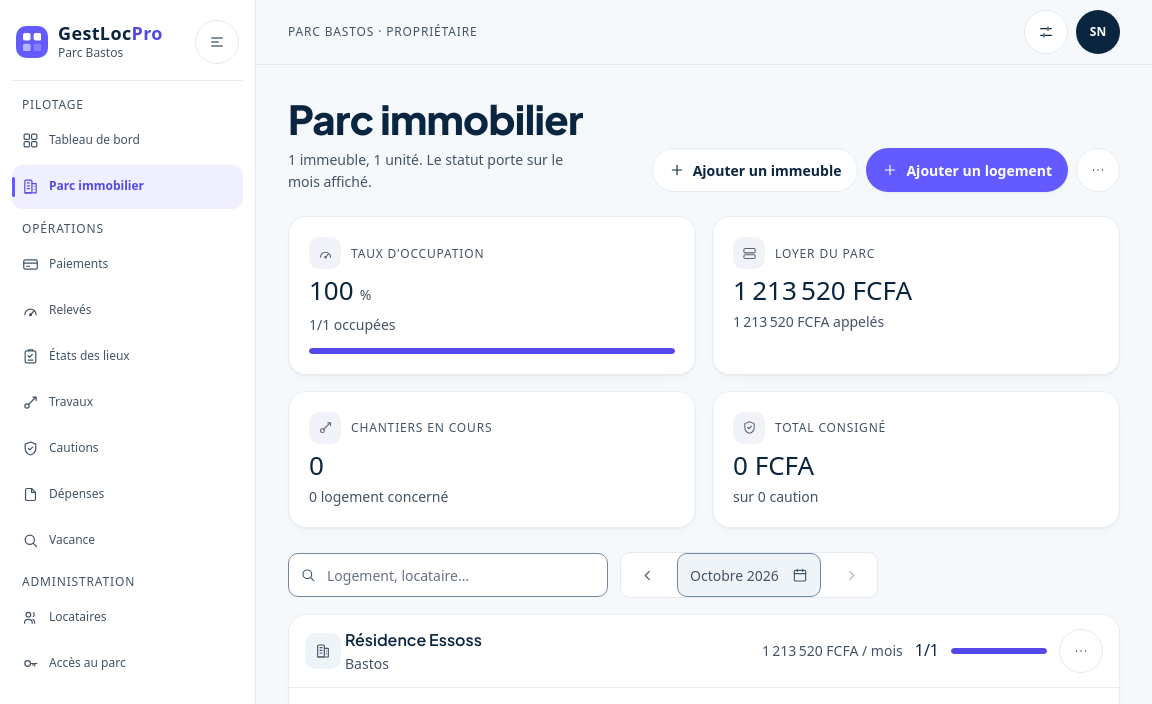
Test: corriger le parc › montre le pays et la devise que le parc porte vraiment
The width and height of the screenshot is (1152, 704).
Click the button named "Autres actions": (1098, 170) [1076,148,1120,192]
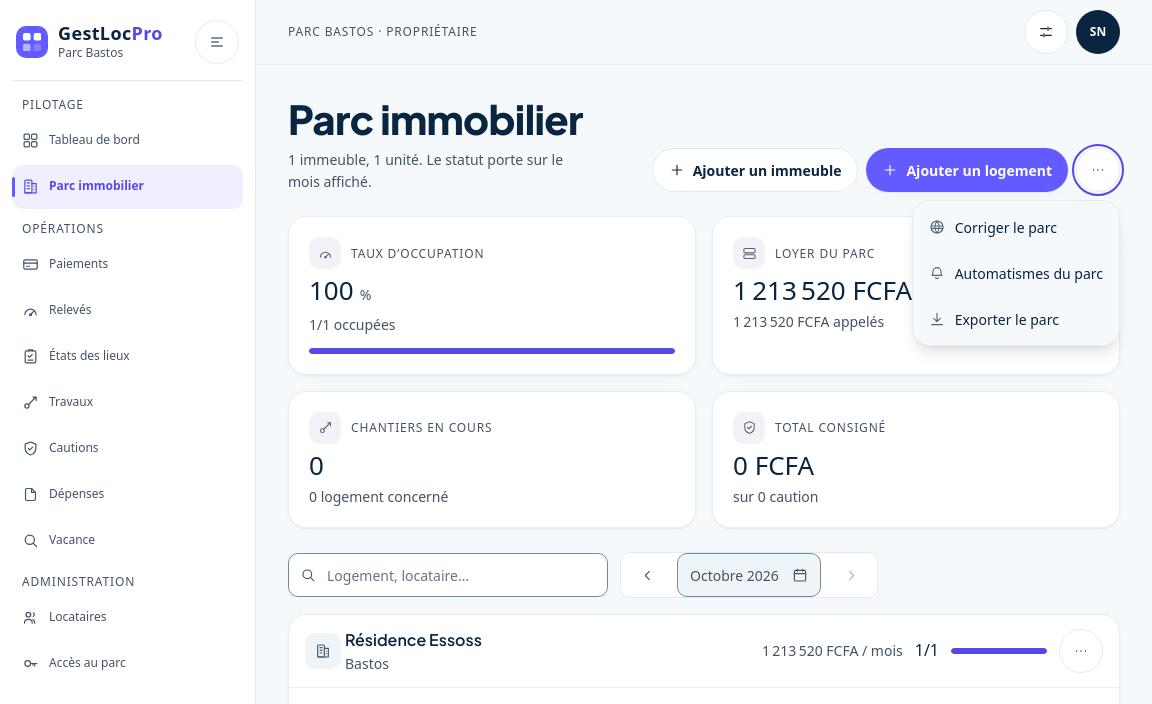
Click the menu item "Corriger le parc": (1016, 227) [917,205,1115,249]
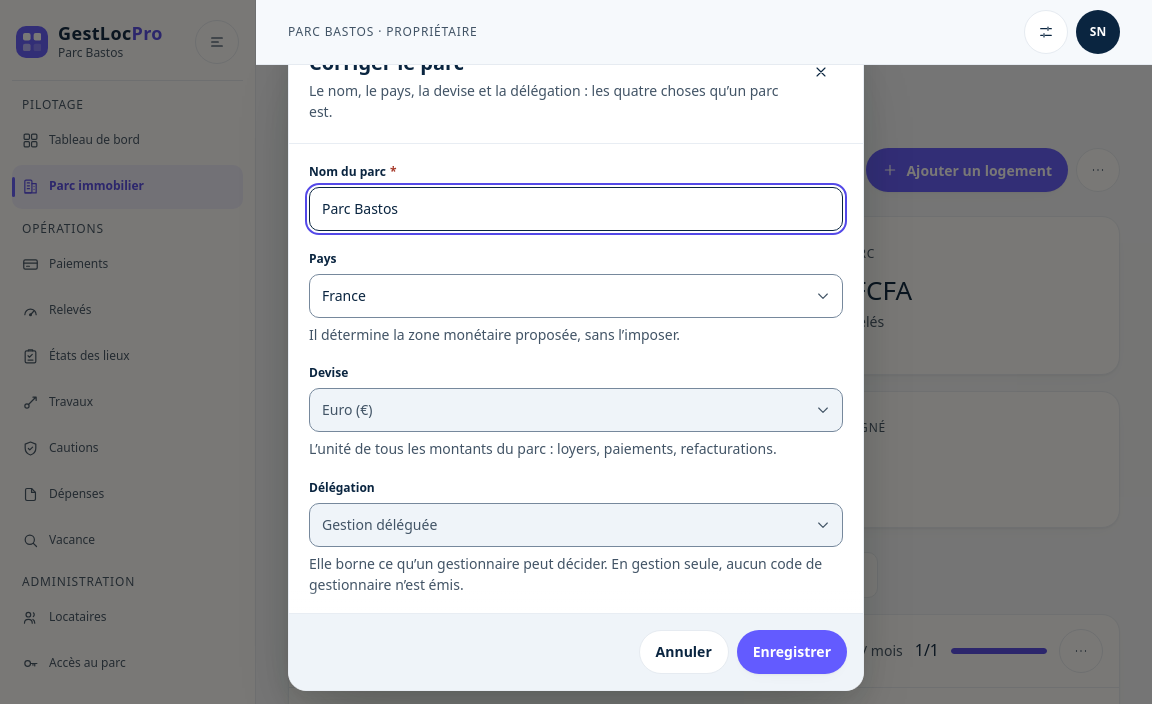
Check: the field labelled "Nom du parc*" holds "Parc Bastos", box [309,187,843,231]
Check: the dropdown labelled "Pays" holds "France", box [309,274,843,318]
Check: the element named "countryCode" holds "FR", box [309,251,843,346]
